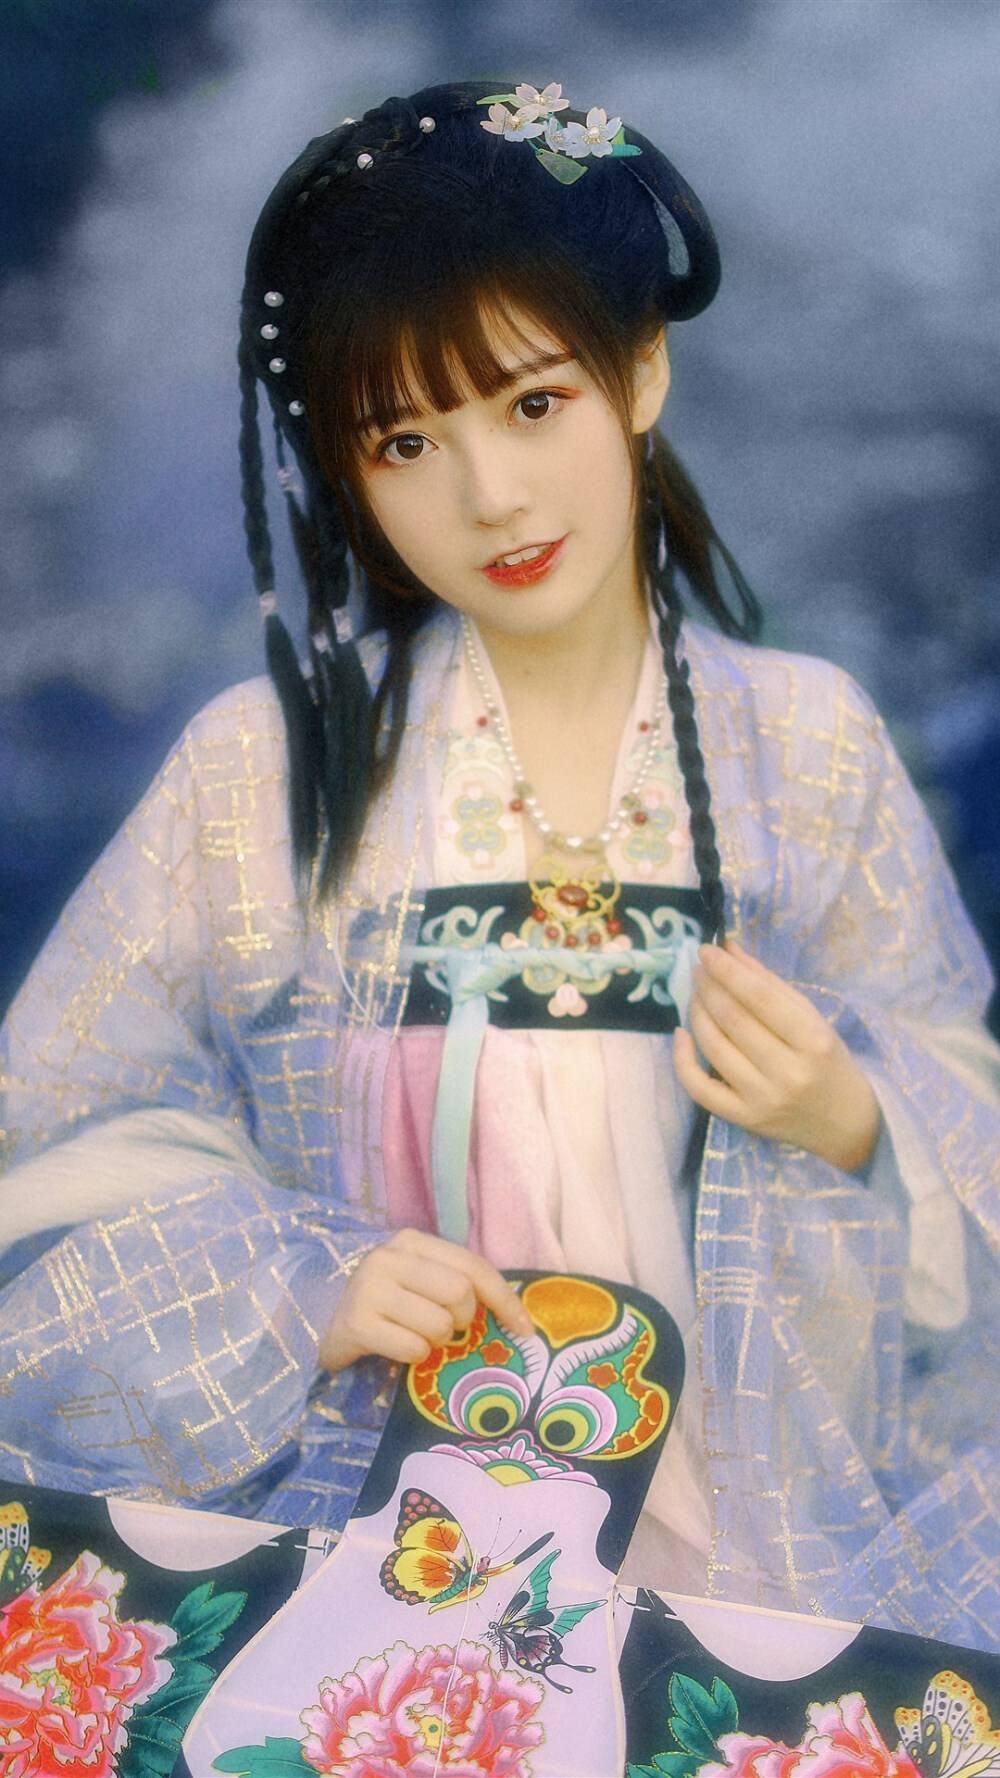person: (210, 113, 887, 1117)
